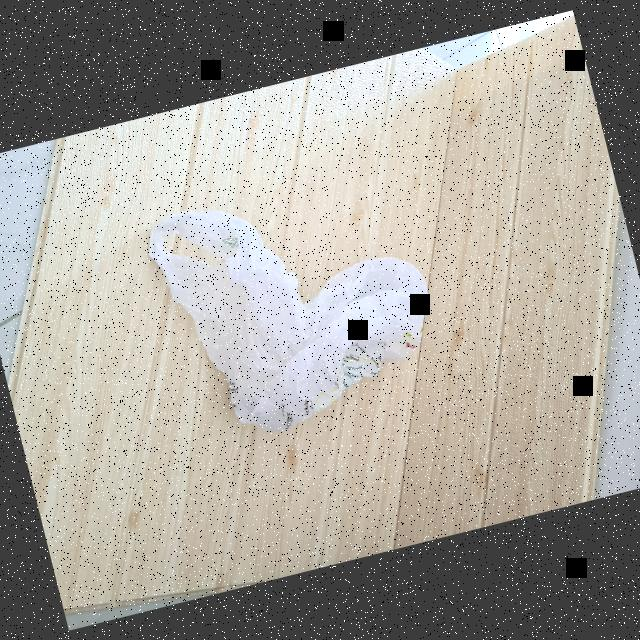plastic_bag: (155, 168, 441, 444)
